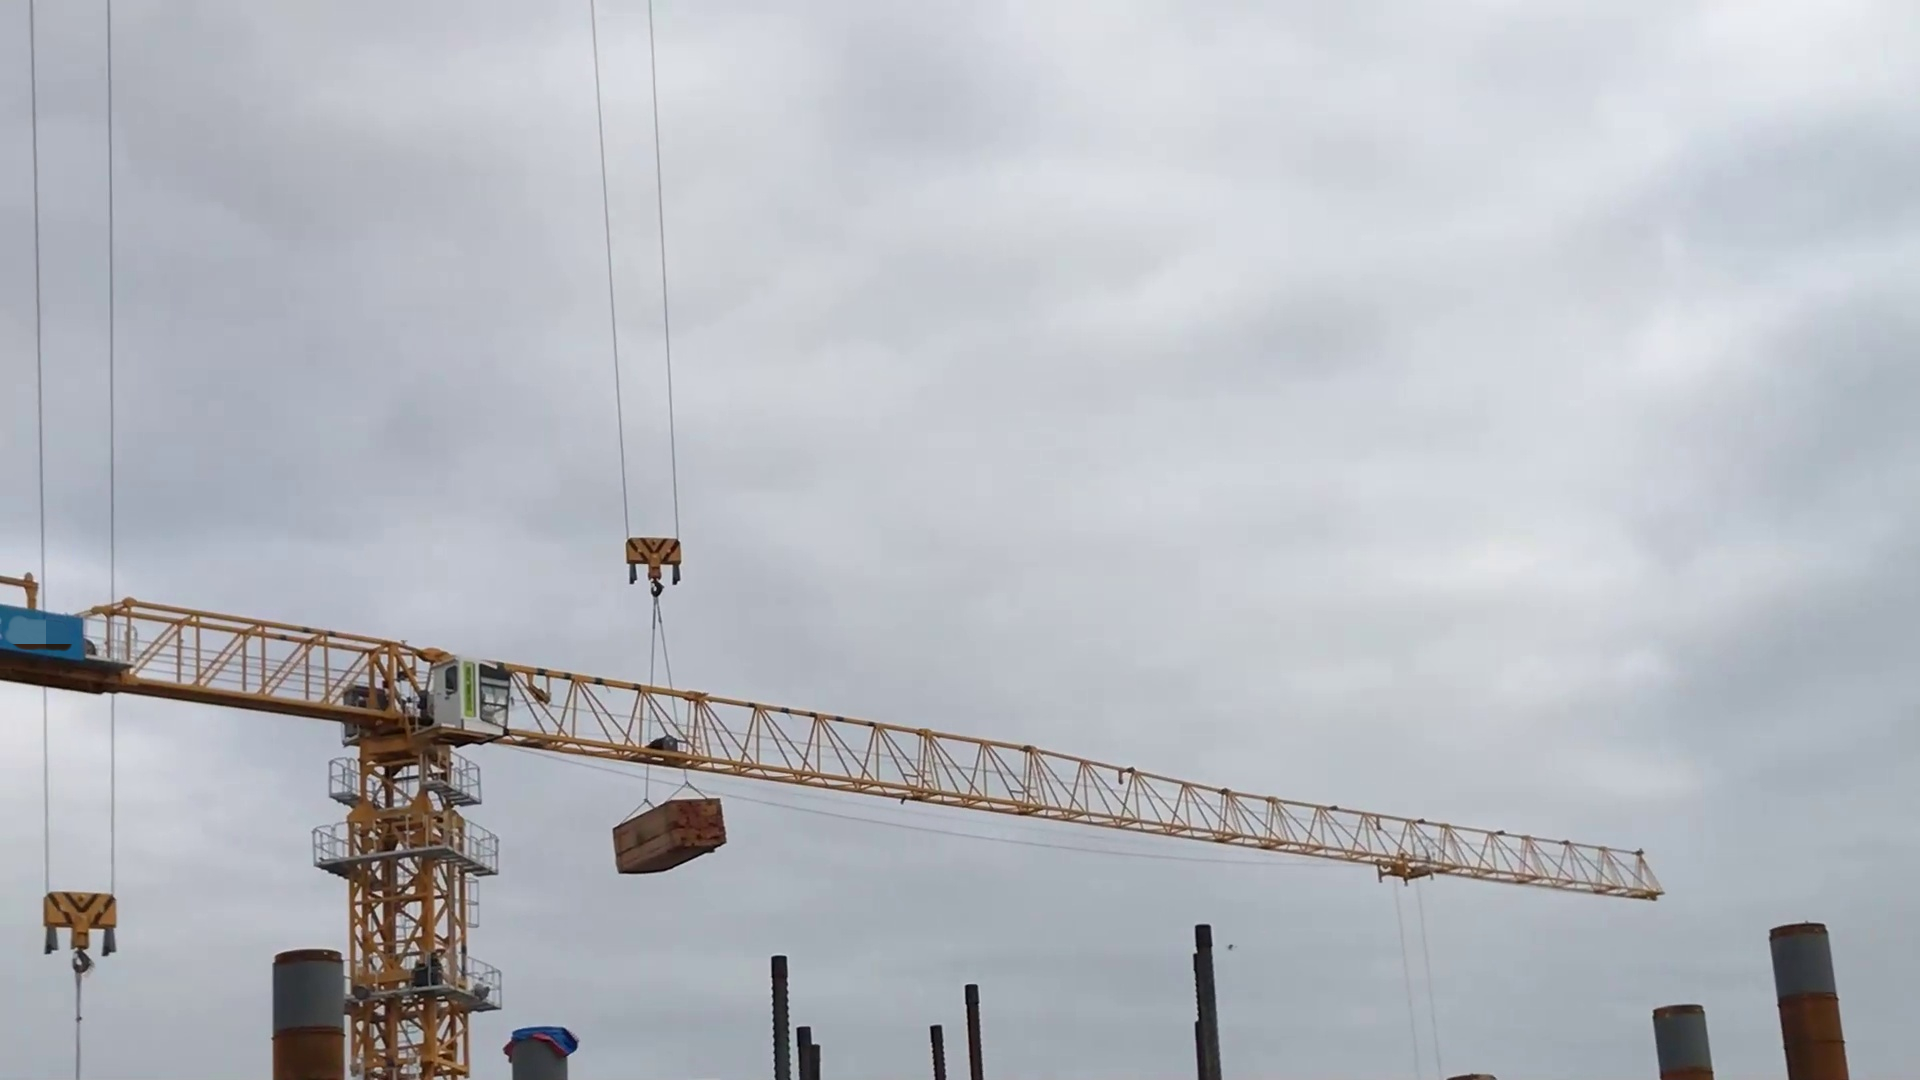hook: (612, 533, 699, 603)
wood: (609, 794, 732, 878)
